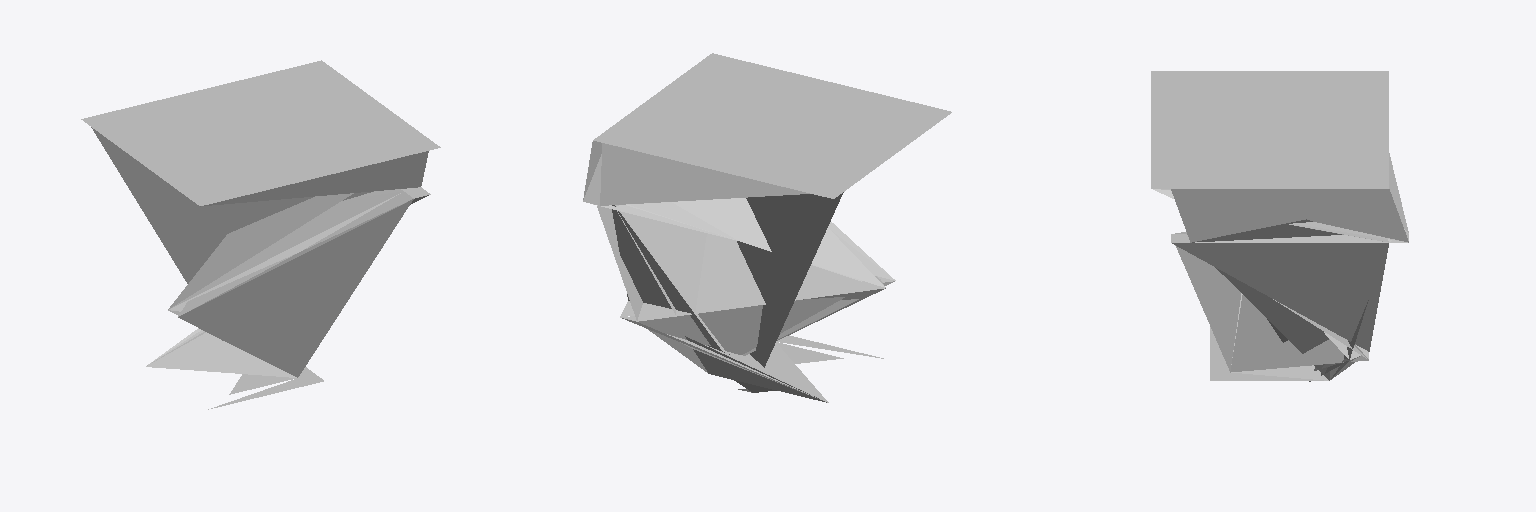
The model's file is Bathroom Stall 5 w Joints.obj.
3 renders of one model, left to right at view 1: azimuth 30°, elevation 25°; view 2: azimuth 150°, elevation 25°; view 3: azimuth 270°, elevation 25°, orthographic.
Size of the model in its own units: 14 by 14 by 13.